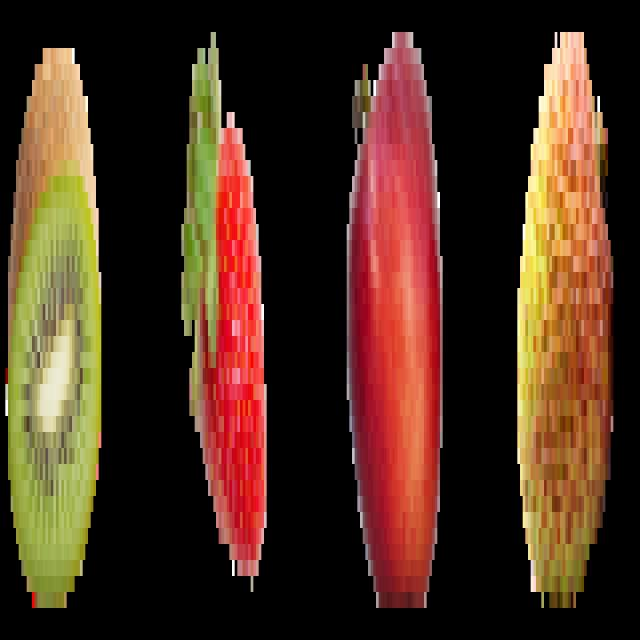apple: (342, 9, 446, 626)
kiwifruit: (5, 13, 105, 629)
lychee: (518, 10, 617, 624)
strawberry: (177, 13, 276, 600)
